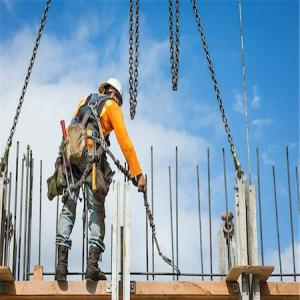white: (102, 79, 125, 110)
